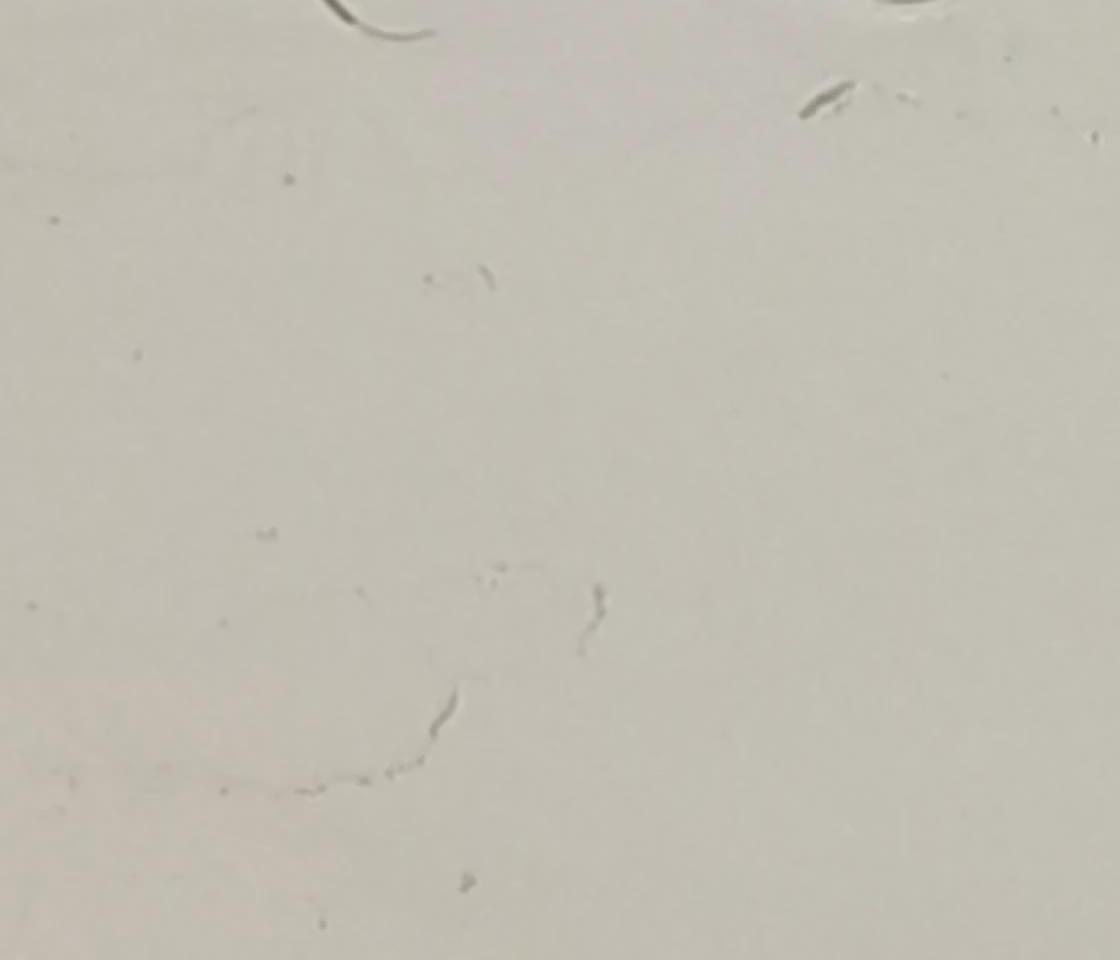scratch: (794, 75, 863, 125), (426, 688, 463, 741)
